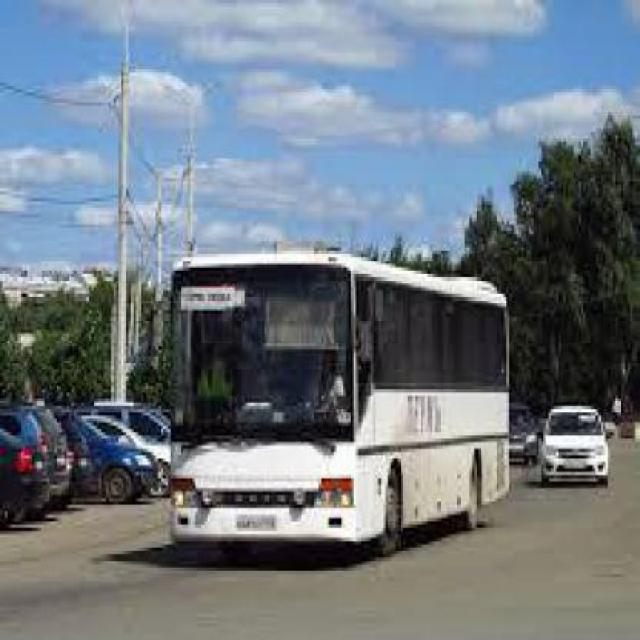bus: (167, 255, 510, 559)
